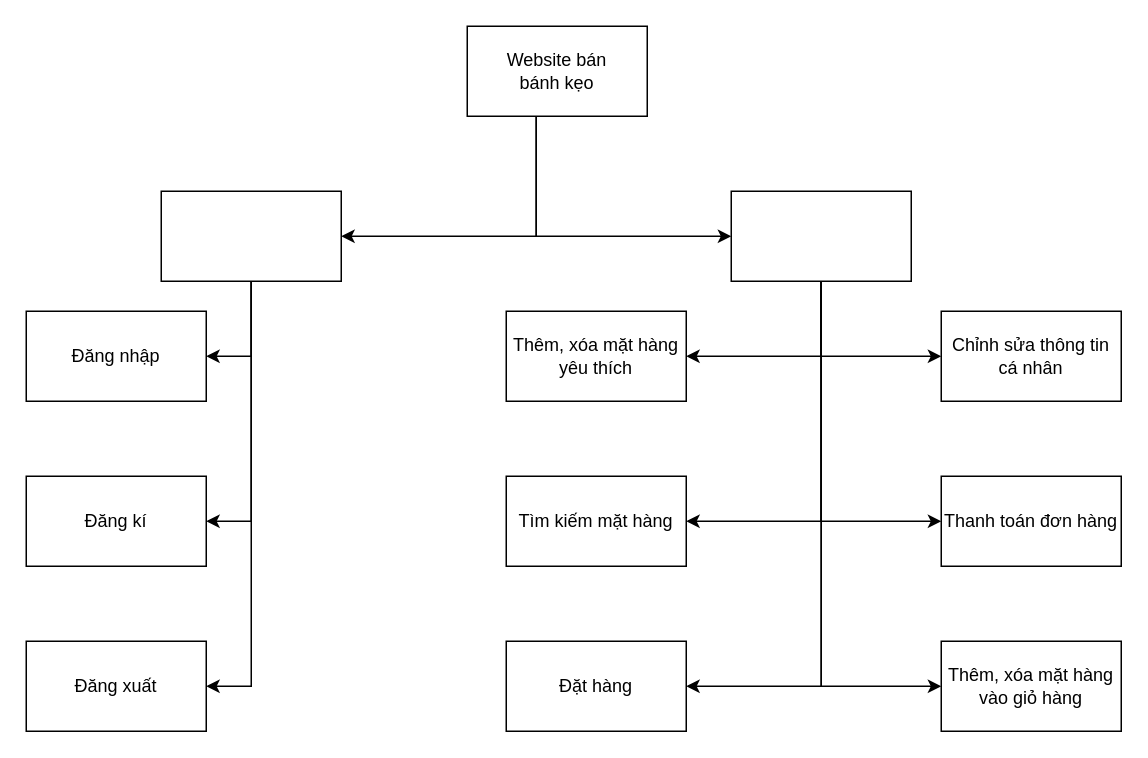
Some shapes in this 1148 by 758 pixel diagram are drawn without their labels. The shapes that lost their labels are listed below. From the top down, each one's box as (x1, y1, x2, y2) in pixels, then its label:
(160, 190, 341, 281): Truy cập hệ thống
(730, 190, 911, 281): Tương tác hệ thống
